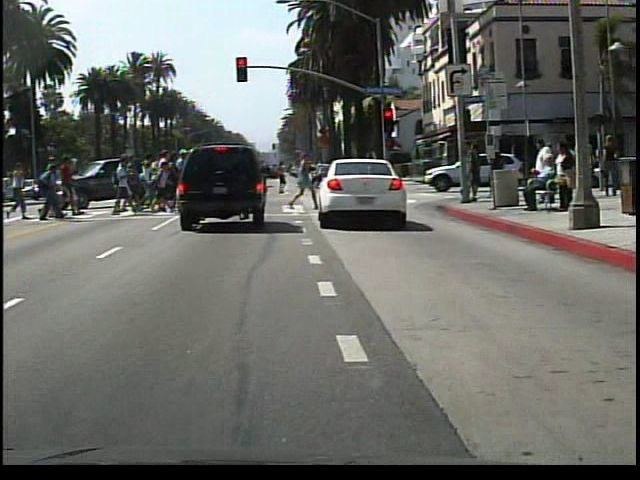person: (521, 154, 563, 215), (549, 138, 578, 212), (289, 147, 320, 214)
